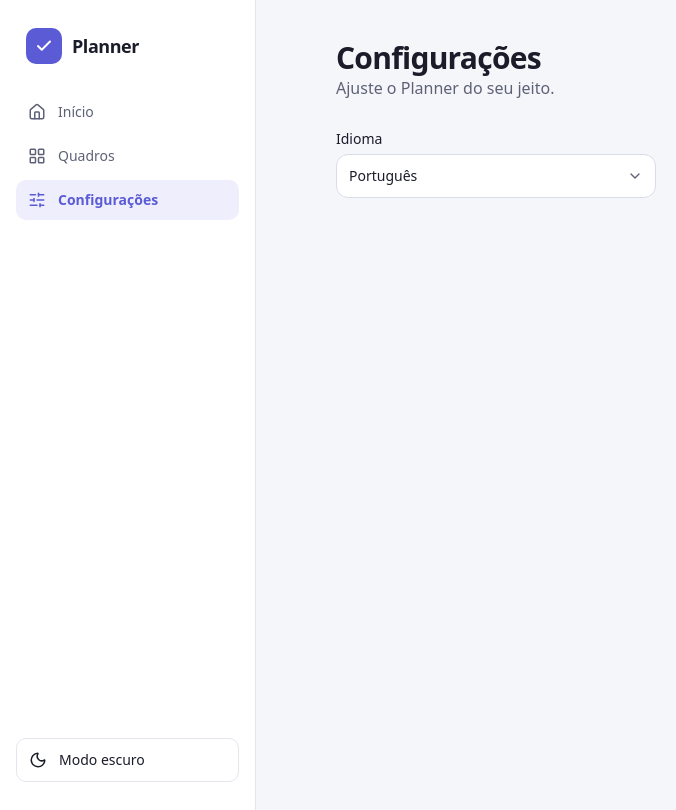
Test case: app layout › switches the language to English and remembers it
Click the dropdown named "Idioma" at (383, 176), box x1=336 y1=154 x2=656 y2=198
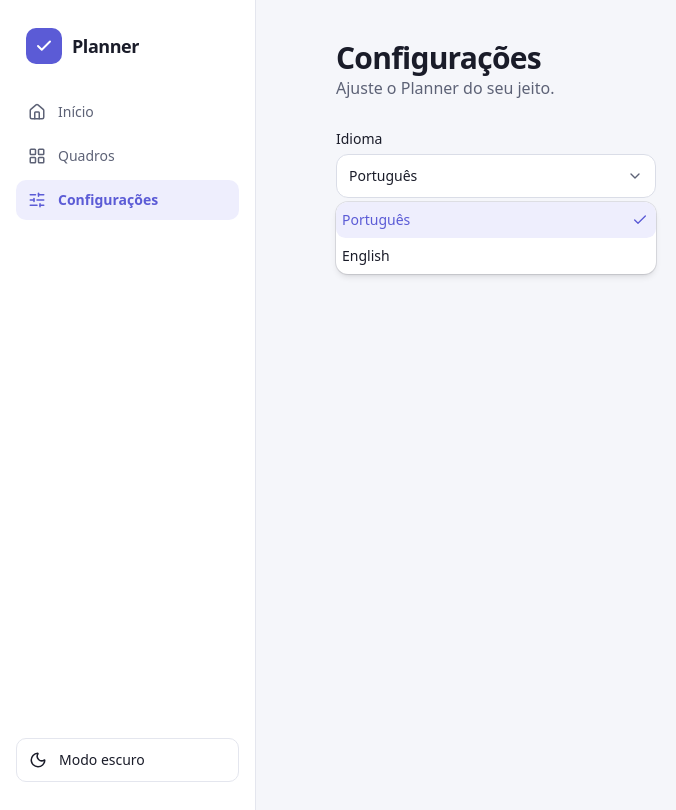
Click the option "English" at (366, 256), box x1=342 y1=246 x2=390 y2=265
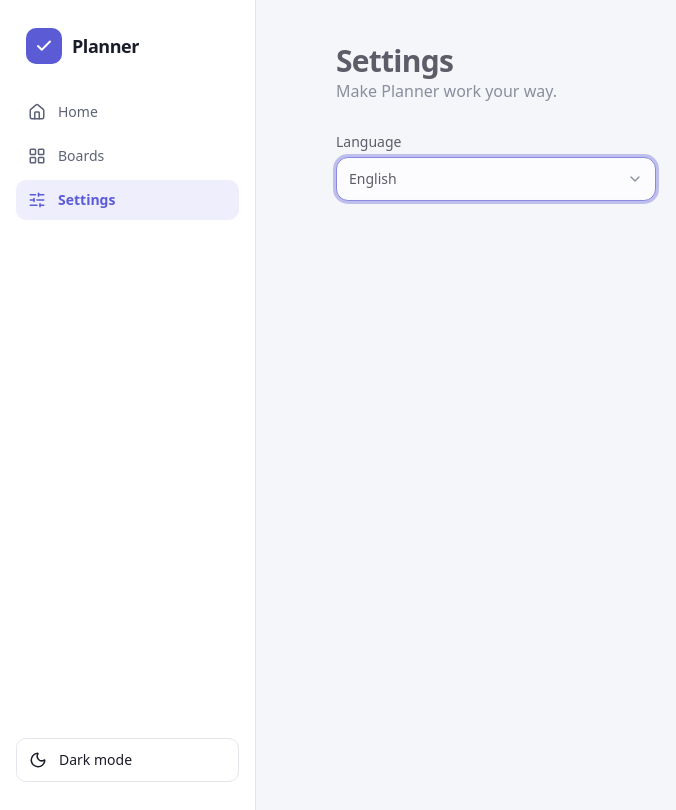
Expected: the heading "Settings" is shown, x1=336 y1=38 x2=453 y2=80
